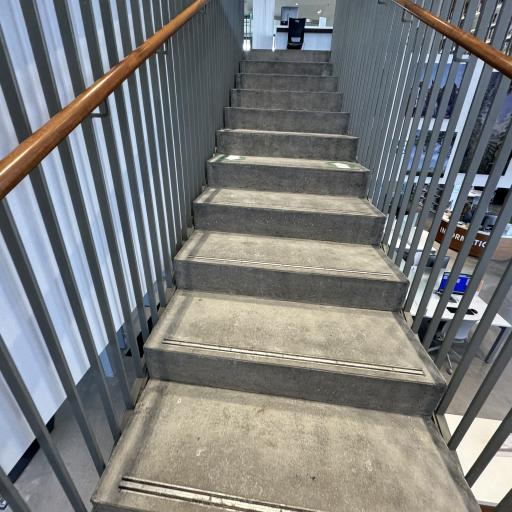Stairs: (92, 50, 480, 512), (92, 379, 480, 512), (144, 290, 444, 415), (174, 230, 409, 311), (194, 187, 386, 245), (207, 154, 369, 197), (217, 128, 358, 162), (224, 107, 350, 135), (230, 89, 343, 112), (236, 73, 338, 92), (240, 60, 334, 76)
